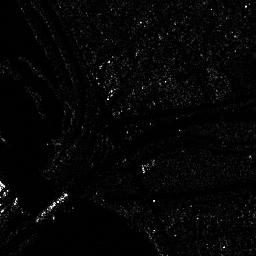ship: (33, 193, 69, 221)
